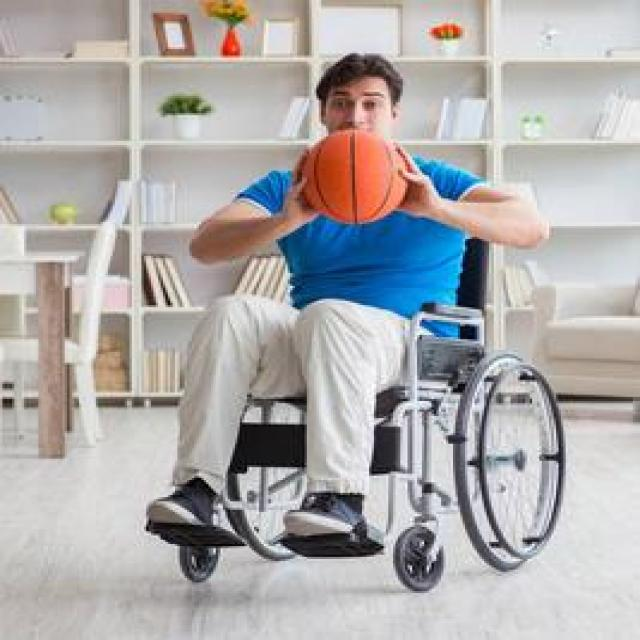wheelchairs: (141, 223, 570, 604)
